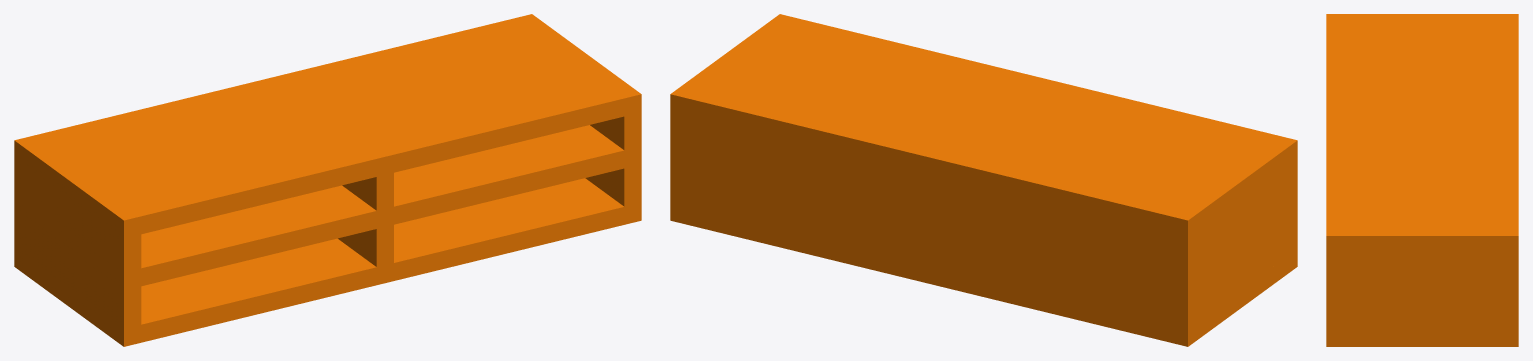
The model's file is sinbal.fbx.
The picture shows the model from 3 angles, left to right: view 1: azimuth 30°, elevation 25°; view 2: azimuth 150°, elevation 25°; view 3: azimuth 270°, elevation 25°; orthographic projection. The views are drawn at different scales.
Visible parts, largest first — view 1: Cube__1_, Cube, Cube__6_, Cube__2_, Cube__5_, Cube__3_, Cube__4_; view 2: Cube__5_, Cube__1_, Cube__2_, Cube, Cube__6_; view 3: Cube__1_, Cube__3_, Cube__5_, Cube.
Boxes of the visible parts, left/top/right/bottom form: Cube__1_: left=24, top=21, right=641, bottom=238; Cube: left=24, top=178, right=641, bottom=346; Cube__6_: left=24, top=125, right=624, bottom=290; Cube__2_: left=24, top=166, right=141, bottom=328; Cube__5_: left=14, top=14, right=541, bottom=273; Cube__3_: left=585, top=112, right=641, bottom=206; Cube__4_: left=338, top=173, right=393, bottom=266; Cube__5_: left=670, top=87, right=1197, bottom=346; Cube__1_: left=680, top=14, right=1297, bottom=230; Cube__2_: left=1198, top=158, right=1297, bottom=321; Cube: left=1198, top=249, right=1297, bottom=339; Cube__6_: left=1198, top=192, right=1297, bottom=282; Cube__1_: left=1326, top=14, right=1501, bottom=251; Cube__3_: left=1326, top=251, right=1501, bottom=330; Cube__5_: left=1501, top=14, right=1518, bottom=346; Cube: left=1326, top=331, right=1501, bottom=346.
Size of the model in its own units: 300 by 70 by 110.
